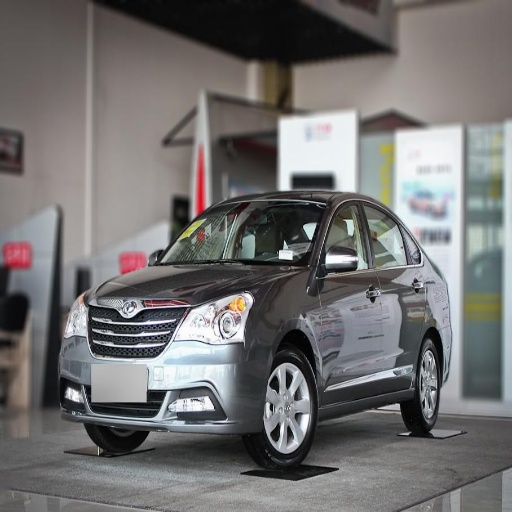front_bumper: (59, 295, 272, 437)
front_glass: (160, 201, 323, 265)
front_left_door: (315, 198, 382, 386)
